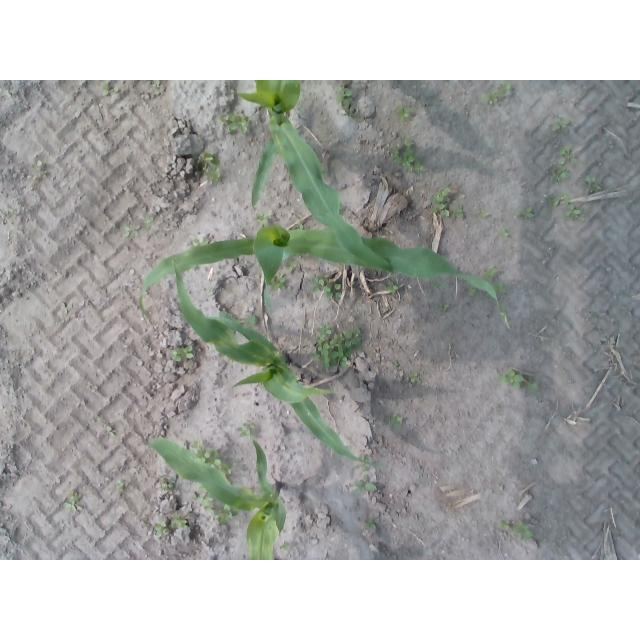Maize: (175, 262, 374, 466), (140, 226, 511, 331), (232, 80, 391, 272), (149, 436, 288, 560)
Weeds: (317, 327, 362, 367), (153, 518, 188, 539), (435, 187, 450, 217), (228, 115, 250, 133), (212, 507, 234, 525), (502, 371, 522, 390), (357, 476, 376, 495), (172, 345, 194, 361), (516, 520, 533, 540), (585, 176, 603, 194), (396, 150, 414, 167), (559, 146, 577, 163), (237, 422, 256, 438), (335, 87, 353, 103), (552, 166, 569, 182), (327, 280, 342, 298), (199, 447, 218, 460), (201, 150, 216, 166), (364, 520, 380, 535), (566, 205, 581, 219), (160, 481, 176, 494), (553, 120, 570, 132), (497, 84, 511, 98), (308, 277, 324, 289), (518, 207, 534, 219), (397, 106, 411, 119), (274, 277, 286, 290), (499, 520, 512, 532), (68, 496, 80, 509), (390, 413, 404, 424), (196, 494, 209, 505), (486, 93, 498, 104), (389, 284, 399, 297), (105, 425, 116, 436), (101, 83, 111, 95), (413, 163, 424, 171), (118, 480, 126, 489), (442, 304, 450, 312), (407, 377, 415, 385), (206, 166, 211, 175)
